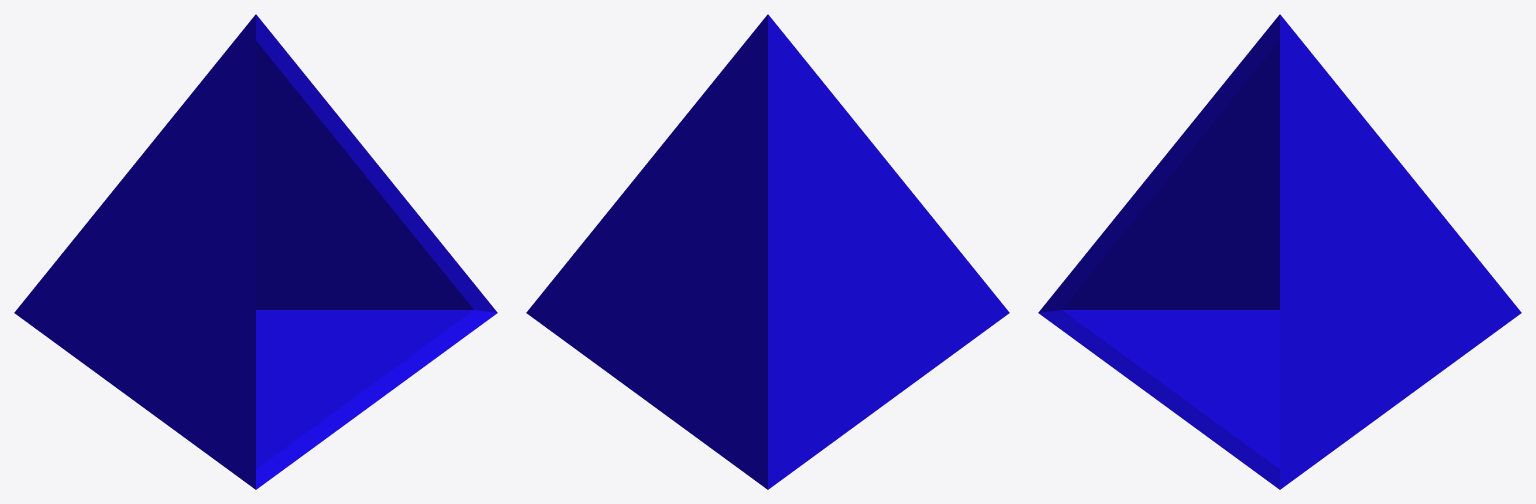
Rendered from Tetrahedron.glb.
The picture shows the model from 3 angles, left to right: view 1: azimuth 30°, elevation 25°; view 2: azimuth 150°, elevation 25°; view 3: azimuth 270°, elevation 25°; orthographic projection.
Parts seen in each view (by area): view 1: Solid.001; view 2: Solid.001; view 3: Solid.001.
Boxes of the visible parts, <box> form: Solid.001: <box>14,14,497,489</box>; Solid.001: <box>526,14,1009,489</box>; Solid.001: <box>1038,14,1521,489</box>.
Bounding box in the file's own units: 122 × 115 × 140.
